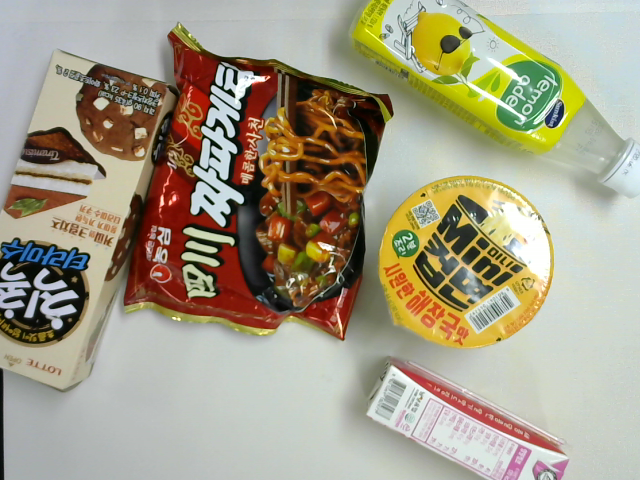Chicchok_Tiramisu: (1, 48, 180, 391)
Hejangmini: (376, 173, 558, 354)
Sichuan_Chapaghetti: (115, 21, 399, 341)
Strawberry_E_Mong: (355, 353, 573, 480)
Sunkist_Lemonaid_Pet: (348, 1, 640, 205)
